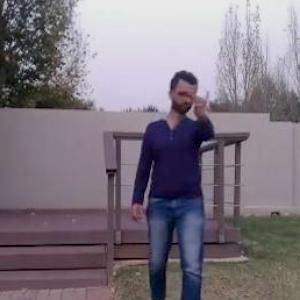takeoff-hand: (184, 80, 217, 123)
